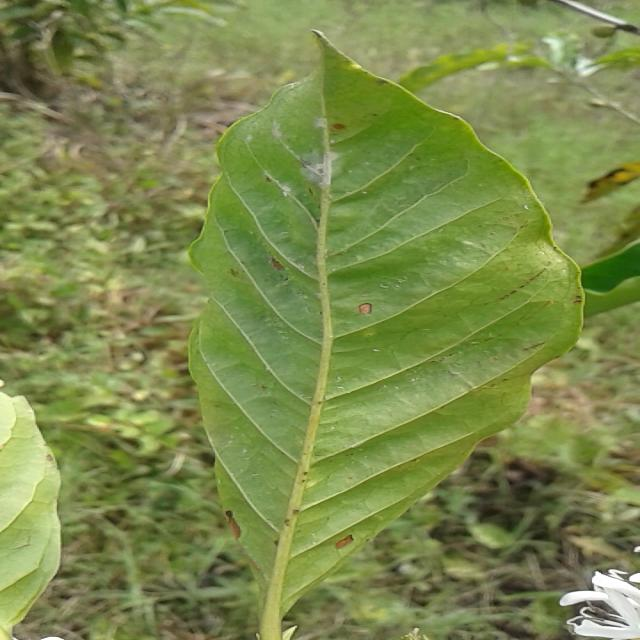Enfermedad-Roya: (186, 32, 585, 640)
